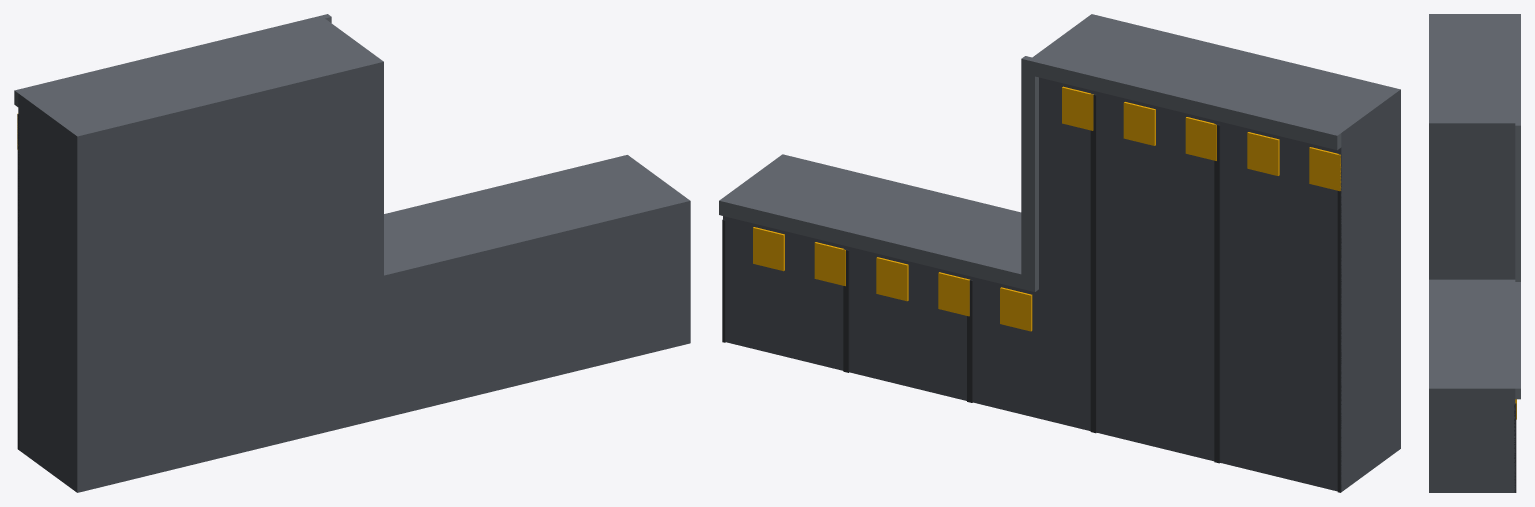
The picture shows the model from 3 angles, left to right: view 1: azimuth 30°, elevation 25°; view 2: azimuth 150°, elevation 25°; view 3: azimuth 270°, elevation 25°; orthographic projection. The views are drawn at different scales.
Parts seen in each view (by area): view 1: k3wf; view 2: k3wf; view 3: k3wf.
Boxes of the visible parts, x1=… form: k3wf: x1=14, y1=14, x2=690, y2=492; k3wf: x1=719, y1=14, x2=1400, y2=492; k3wf: x1=1429, y1=14, x2=1520, y2=492.
Size of the model in its own units: 9 by 5 by 1.6.
